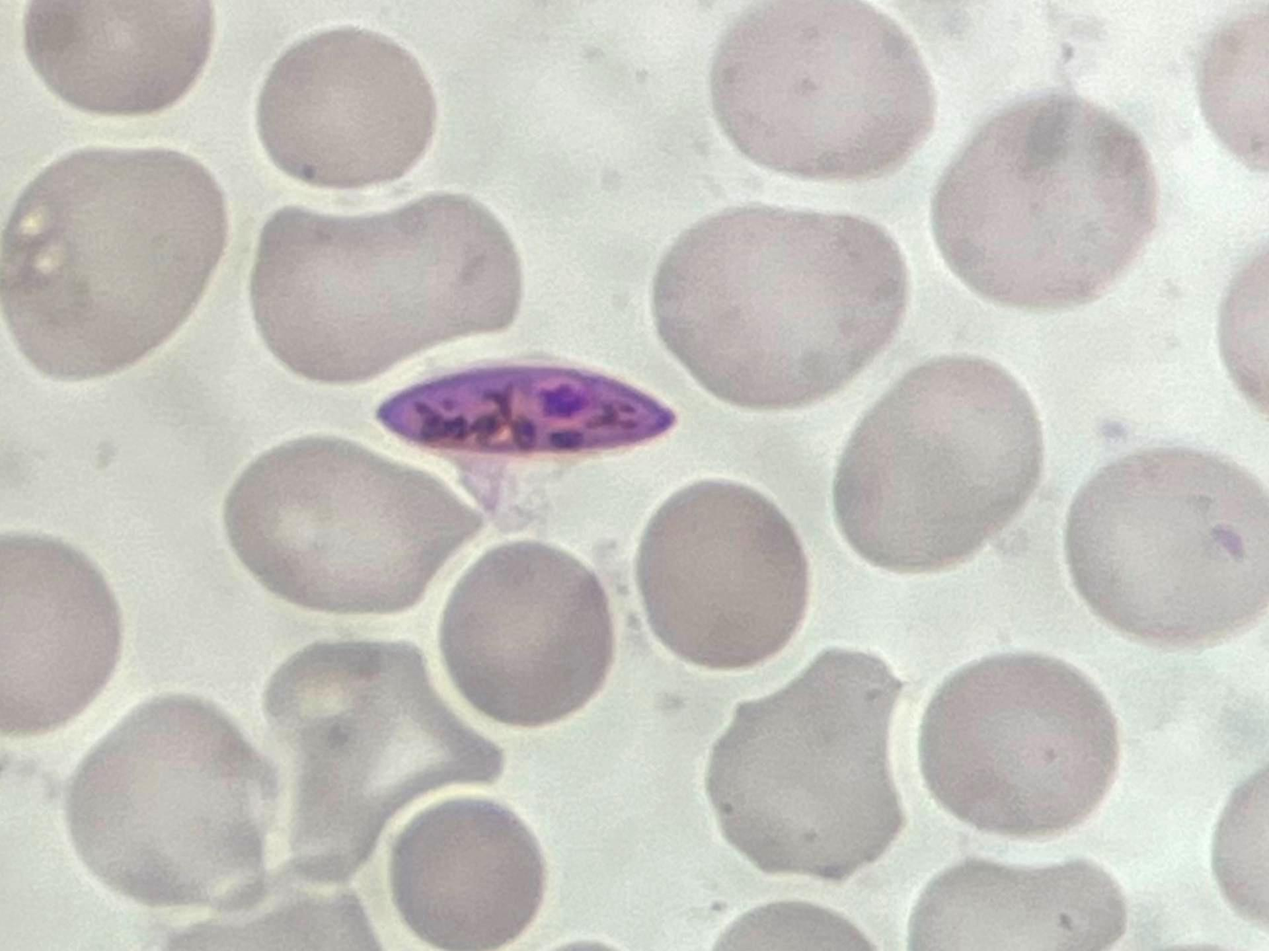Infected: (375, 347, 680, 478)
Uninfected: (260, 631, 499, 890), (249, 190, 529, 386), (0, 148, 231, 384), (934, 84, 1169, 315), (650, 206, 909, 406), (62, 695, 282, 912), (833, 351, 1047, 574), (216, 437, 483, 615), (705, 644, 905, 874), (1064, 437, 1269, 647), (916, 648, 1122, 849), (716, 0, 934, 184), (637, 470, 811, 675), (436, 540, 611, 725), (251, 25, 441, 187), (388, 795, 552, 947), (21, 0, 216, 115)
